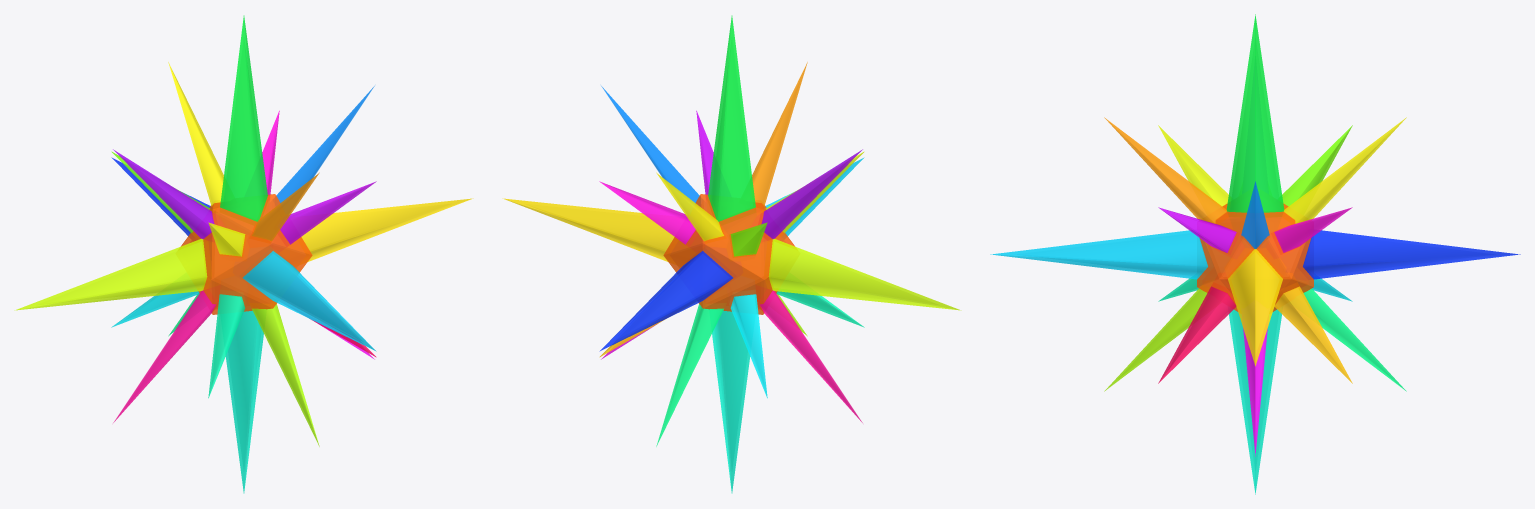
File: 08-diamant.glb
The picture shows the model from 3 angles, left to right: view 1: azimuth 30°, elevation 25°; view 2: azimuth 150°, elevation 25°; view 3: azimuth 270°, elevation 25°; orthographic projection.
Parts seen in each view (by area): view 1: core_rim, dagger2_rim, dagger3_rim, dagger1_rim, dagger4_rim, dagger5_rim, ray21_rim, ray16_rim, ray18_rim, ray20_rim, spur13_rim, spur7_rim (+6 smaller); view 2: core_rim, dagger2_rim, dagger3_rim, dagger1_rim, dagger4_rim, dagger6_rim, ray22_rim, ray16_rim, ray18_rim, ray19_rim, spur14_rim, spur8_rim (+6 smaller); view 3: dagger3_rim, dagger5_rim, dagger6_rim, core_rim, dagger1_rim, dagger4_rim, ray19_rim, ray20_rim, spur9_rim, spur10_rim, ray21_rim, ray22_rim (+6 smaller).
Part boxes in pixels (bbox=[...]): core_rim: bbox=[181, 194, 312, 314]; dagger2_rim: bbox=[14, 238, 207, 310]; dagger3_rim: bbox=[220, 15, 267, 221]; dagger1_rim: bbox=[301, 198, 473, 261]; dagger4_rim: bbox=[225, 310, 263, 493]; dagger5_rim: bbox=[242, 250, 376, 351]; ray21_rim: bbox=[252, 303, 319, 446]; ray16_rim: bbox=[113, 149, 214, 239]; ray18_rim: bbox=[113, 290, 216, 422]; ray20_rim: bbox=[168, 62, 223, 206]; spur13_rim: bbox=[208, 294, 245, 398]; spur7_rim: bbox=[280, 181, 376, 244]; core_rim: bbox=[663, 194, 794, 314]; dagger2_rim: bbox=[768, 238, 961, 310]; dagger3_rim: bbox=[708, 15, 755, 221]; dagger1_rim: bbox=[502, 198, 674, 261]; dagger4_rim: bbox=[712, 310, 750, 493]; dagger6_rim: bbox=[599, 250, 733, 351]; ray22_rim: bbox=[656, 303, 723, 446]; ray16_rim: bbox=[761, 149, 862, 239]; ray18_rim: bbox=[759, 290, 862, 422]; ray19_rim: bbox=[752, 62, 807, 206]; spur14_rim: bbox=[730, 294, 767, 398]; spur8_rim: bbox=[599, 181, 695, 244]; dagger3_rim: bbox=[1226, 14, 1284, 212]; dagger5_rim: bbox=[990, 230, 1208, 279]; dagger6_rim: bbox=[1302, 230, 1520, 279]; core_rim: bbox=[1197, 203, 1313, 311]; dagger1_rim: bbox=[1228, 249, 1282, 366]; dagger4_rim: bbox=[1229, 309, 1281, 494]; ray19_rim: bbox=[1104, 117, 1227, 223]; ray20_rim: bbox=[1283, 117, 1406, 223]; spur9_rim: bbox=[1158, 286, 1236, 383]; spur10_rim: bbox=[1274, 286, 1352, 383]; ray21_rim: bbox=[1104, 288, 1207, 391]; ray22_rim: bbox=[1303, 288, 1406, 391].
Bounding box in the file's own units: 2.93 × 2.93 × 2.93.
